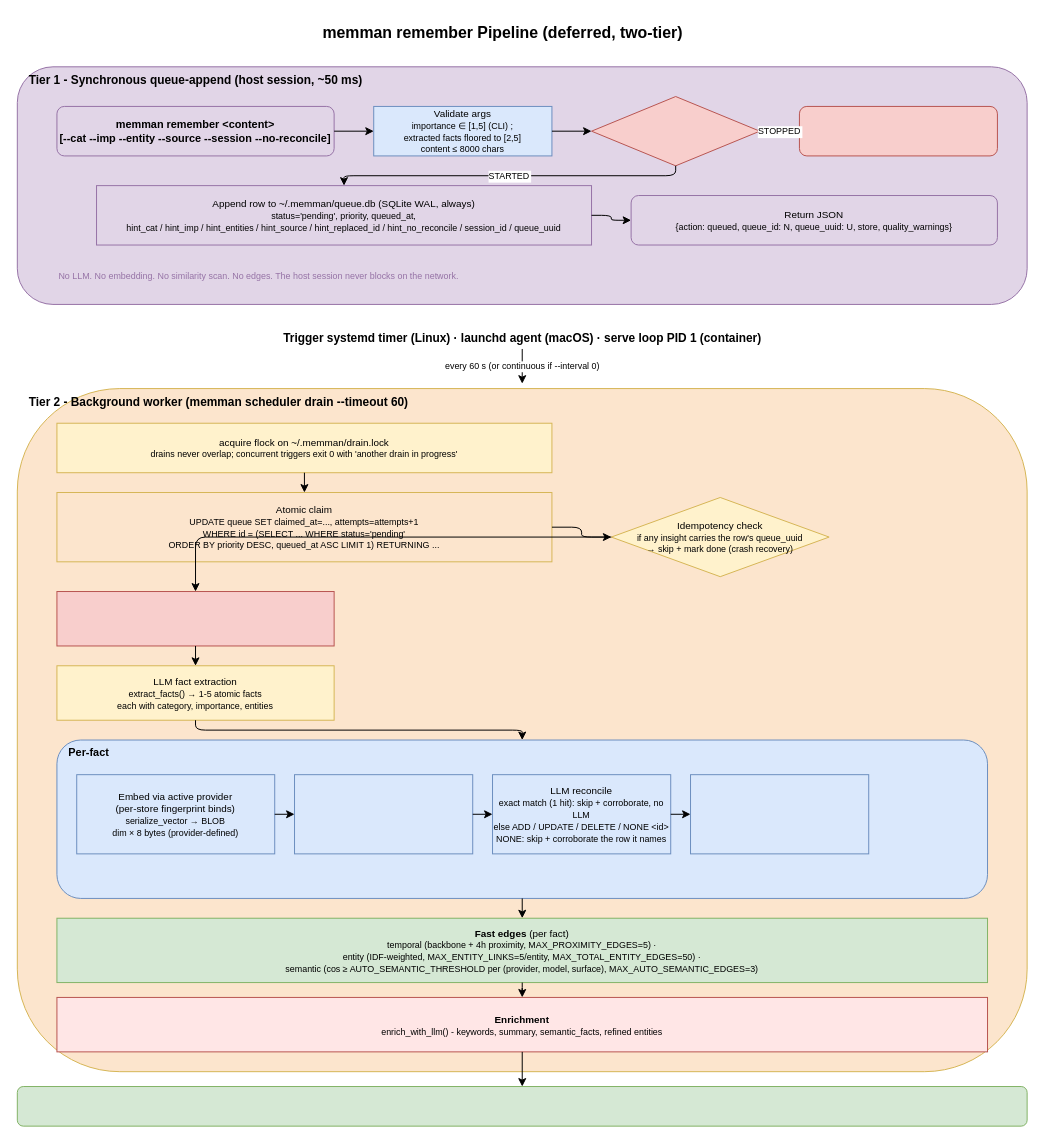
Some shapes in this 1044 by 1143 pixel diagram are drawn without their labels. The shapes that lost their labels are listed below. From the top down, each one's centre as x and y in pixels, then its label:
pixel 675 131: Check scheduler state reject when STOPPED
pixel 897 130: Scheduler is stopped; cannot remember.
pixel 195 618: Quality gate check_content_quality(content) reject ≥ 2 transient warnings
pixel 383 814: Find similar keyword search (top 5) + cosine scan (≥ 0.5)
pixel 779 814: Apply action INSERT new / UPDATE existing / soft-DELETE / SKIP
pixel 521 1106: Re-embed with enriched keywords · rebuild auto edges · mark_done(queue_id)
